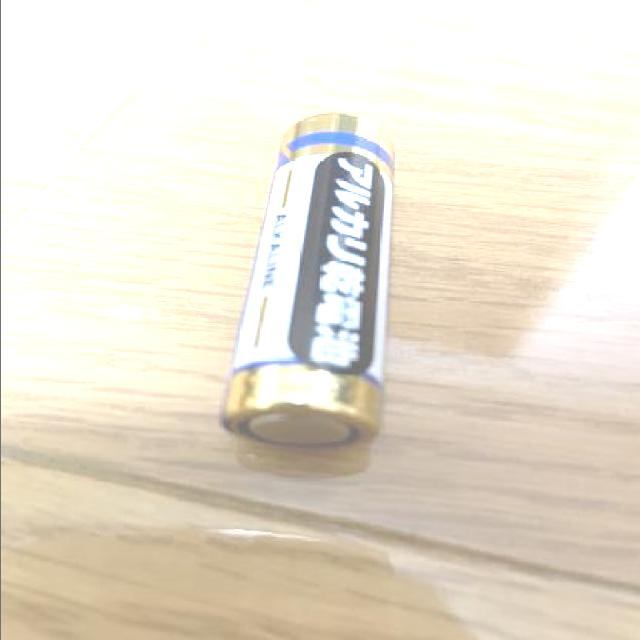AA: (209, 110, 409, 464)
